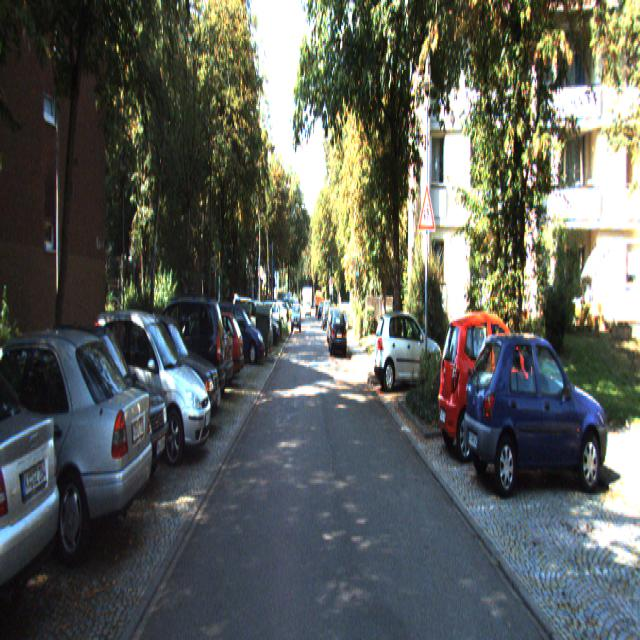Car: (0, 321, 157, 580), (25, 317, 174, 503), (462, 326, 609, 502), (0, 314, 72, 638), (84, 316, 213, 472), (436, 313, 554, 470), (106, 310, 224, 439), (130, 293, 228, 424), (374, 311, 444, 397), (212, 306, 266, 370), (328, 312, 348, 358)
